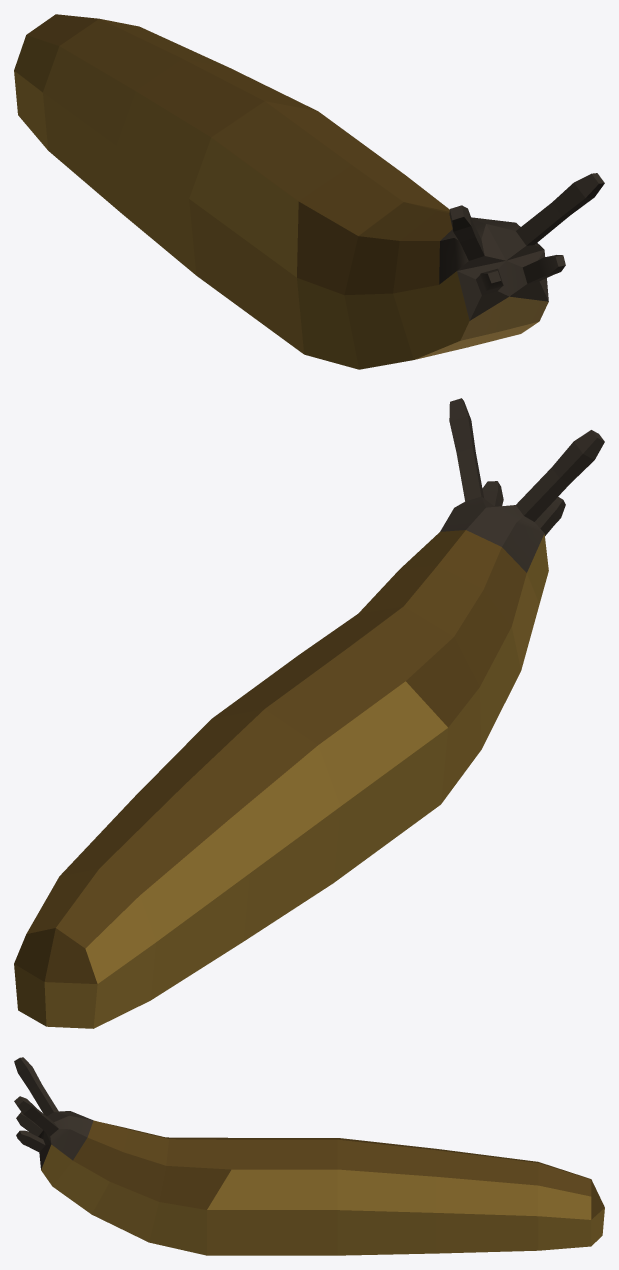
Rendered from d329bfe1-d3ef-4ff3-baed-2fc6755aeeb8.glb.
3 renders of one model, top to bottom at view 1: azimuth 30°, elevation 25°; view 2: azimuth 150°, elevation 25°; view 3: azimuth 270°, elevation 25°, orthographic. The views are drawn at different scales.
Parts seen in each view (by area): view 1: Geo_Slug; view 2: Geo_Slug; view 3: Geo_Slug.
Boxes of the visible parts, bbox=[...] form: Geo_Slug: bbox=[14, 14, 604, 369]; Geo_Slug: bbox=[14, 398, 604, 1028]; Geo_Slug: bbox=[14, 1057, 604, 1255].
Bounding box in the file's own units: 13.27 × 21.77 × 73.32.
1 material, 1 textured.
